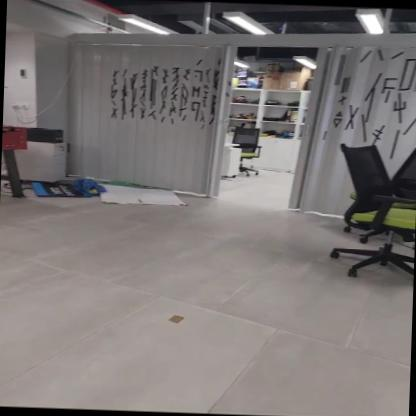open: (215, 46, 305, 214)
